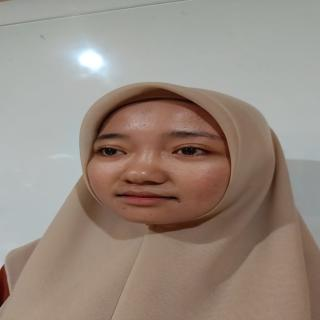Netral: (76, 87, 240, 233)
